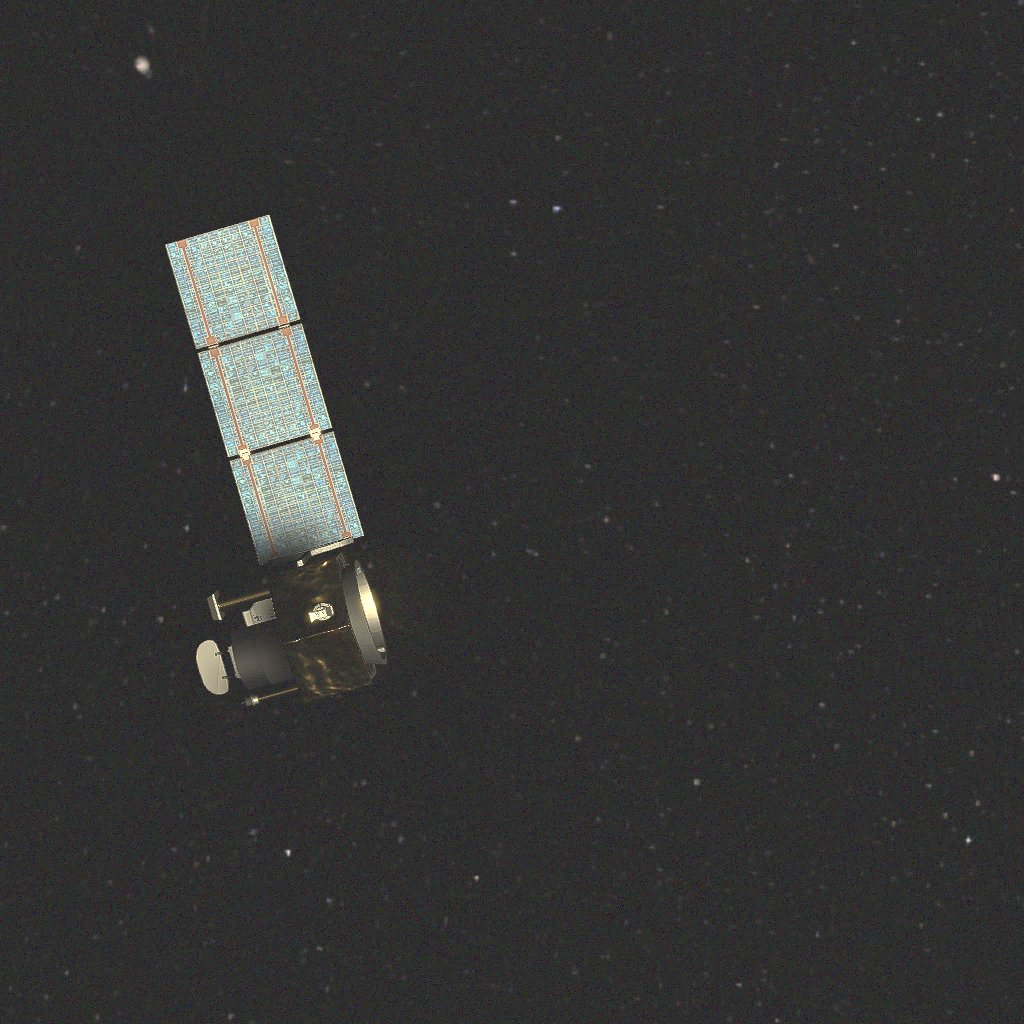earth_observation_sat_1: (165, 215, 387, 706)
